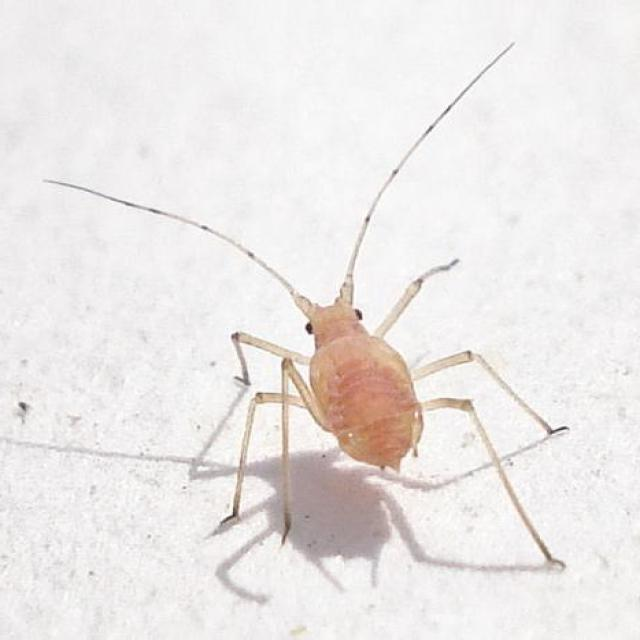aphid: (59, 37, 607, 579)
